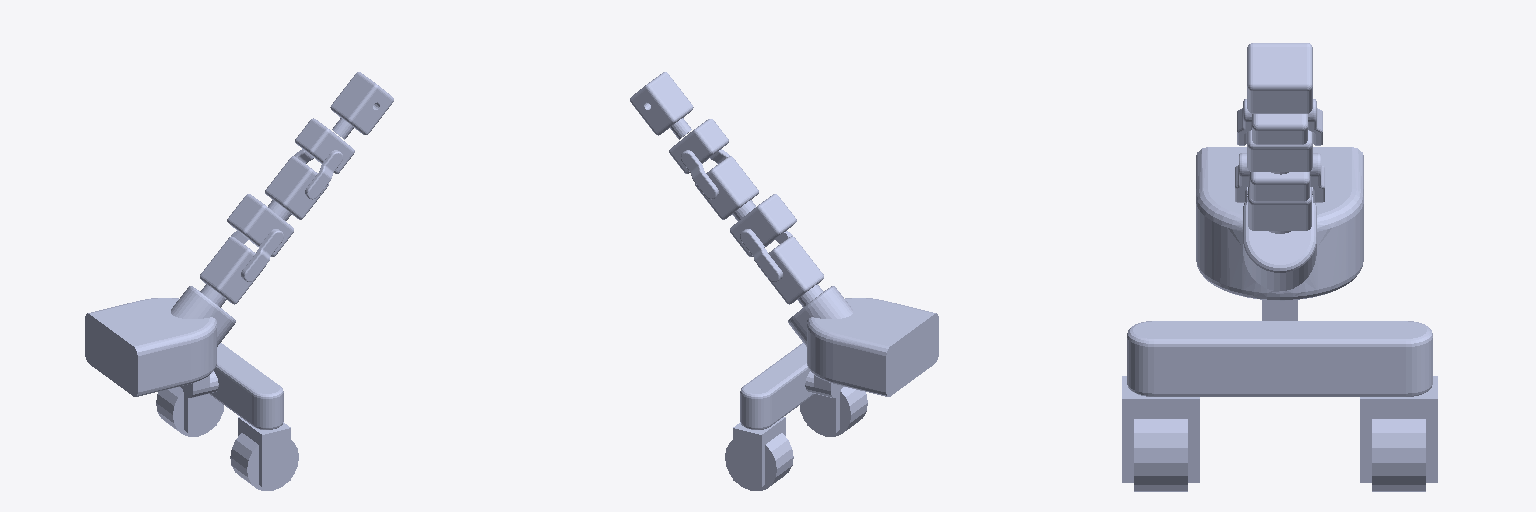
robot.urdf — LRM_ARM_60_0_1:
<?xml version="1.0" encoding="utf-8"?>
<!-- This URDF was automatically created by SolidWorks to URDF Exporter! Originally created by [author] ([email redacted]) 
     Commit Version: 1.6.0-4-g7f85cfe  Build Version: 1.6.7995.38578
     For more information, please see http://wiki.ros.org/sw_urdf_exporter -->
<robot
  name="LRM_ARM_60_0_1">
  <link
    name="base_link">
    <inertial>
      <origin
        xyz="-0.048104206841079 -4.90111673467908E-09 0.143557530418976"
        rpy="0 0 0" />
      <mass
        value="4.97178975391731" />
      <inertia
        ixx="0.0286525742966097"
        ixy="-5.05387354171124E-10"
        ixz="0.00709494743952162"
        iyy="0.0279823571540364"
        iyz="1.30205099336314E-09"
        izz="0.0260130342872084" />
    </inertial>
    <visual>
      <origin
        xyz="0 0 0"
        rpy="0 0 0" />
      <geometry>
        <mesh
          filename="package://meshes/base_link.STL" />
      </geometry>
      <material
        name="">
        <color
          rgba="0.792156862745098 0.819607843137255 0.933333333333333 1" />
      </material>
    </visual>
    <collision>
      <origin
        xyz="0 0 0"
        rpy="0 0 0" />
      <geometry>
        <mesh
          filename="package://meshes/base_link.STL" />
      </geometry>
    </collision>
  </link>
  <link
    name="link1">
    <inertial>
      <origin
        xyz="0 1.1102E-16 0.040987"
        rpy="0 0 0" />
      <mass
        value="0.17564" />
      <inertia
        ixx="0.00015754"
        ixy="-1.1079E-12"
        ixz="3.3034E-19"
        iyy="0.00014648"
        iyz="-6.7145E-20"
        izz="5.8551E-05" />
    </inertial>
    <visual>
      <origin
        xyz="0 0 0"
        rpy="0 0 0" />
      <geometry>
        <mesh
          filename="package://meshes/link1.STL" />
      </geometry>
      <material
        name="">
        <color
          rgba="0.79216 0.81961 0.93333 1" />
      </material>
    </visual>
    <collision>
      <origin
        xyz="0 0 0"
        rpy="0 0 0" />
      <geometry>
        <mesh
          filename="package://meshes/link1.STL" />
      </geometry>
    </collision>
  </link> 
  <joint
    name="joint1"
    type="revolute">
    <origin
      xyz="0 0 0.23432"
      rpy="0 0.7854 0" />
    <!--origin
      xyz="0 0 0.23432"
      rpy="0 1.0472 0" /-->
    <parent
      link="base_link" />
    <child
      link="link1" />
    <axis
      xyz="0 0 -1" />
    <limit
      lower="-1.7453"
      upper="1.7453"
      effort="4"
      velocity="0.12" />
  </joint>
  <link
    name="link2">
    <inertial>
      <origin
        xyz="-0.0088338 0.053407 1.8248E-08"
        rpy="0 0 0" />
      <mass
        value="0.16897" />
      <inertia
        ixx="0.00012053"
        ixy="1.0916E-05"
        ixz="1.3718E-11"
        iyy="0.00011686"
        iyz="4.5225E-11"
        izz="0.00012323" />
    </inertial>
    <visual>
      <origin
        xyz="0 0 0"
        rpy="0 0 0" />
      <geometry>
        <mesh
          filename="package://meshes/link2.STL" />
      </geometry>
      <material
        name="">
        <color
          rgba="0.79216 0.81961 0.93333 1" />
      </material>
    </visual>
    <collision>
      <origin
        xyz="0 0 0"
        rpy="0 0 0" />
      <geometry>
        <mesh
          filename="package://meshes/link2.STL" />
      </geometry>
    </collision>
  </link>
  <joint
    name="joint2"
    type="revolute"> <!-- 0.057205 -->
    <origin
      xyz="0 0 0.057205"
      rpy="1.5708 0 0" />
    <parent
      link="link1" />
    <child
      link="link2" />
    <axis
      xyz="0 0 1" />
    <limit
      lower="-1.7453"
      upper="1.7453"
      effort="4"
      velocity="0.12" />
  </joint>
  <link
    name="link3">
    <inertial> 
      <origin 
        xyz="-1.3878E-17 2.7756E-17 0.039326" 
        rpy="0 0 0" />
      <mass
        value="0.14908" />
      <inertia
        ixx="0.00010055"
        ixy="-1.1452E-12"
        ixz="1.135E-19"
        iyy="8.9207E-05"
        iyz="-3.4301E-20"
        izz="5.2789E-05" />
    </inertial>
    <visual>
      <origin
        xyz="0 0 0"
        rpy="0 0 0" />
      <geometry>
        <mesh
          filename="package://meshes/link3.STL" />
      </geometry>
      <material
        name="">
        <color
          rgba="0.79216 0.81961 0.93333 1" />
      </material>
    </visual>
    <collision>
      <origin
        xyz="0 0 0"
        rpy="0 0 0" />
      <geometry>
        <mesh
          filename="package://meshes/link3.STL" />
      </geometry>
    </collision>
  </link>
  <joint
    name="joint3" 
    type="revolute"> <!-- 0.08 -->
    <origin
      xyz="0 0.084805 0"
      rpy="-1.5708 0 0" />
    <parent
      link="link2" />
    <child
      link="link3" />
    <axis
      xyz="0 0 1" />
    <limit
      lower="-1.7453"
      upper="1.7453"
      effort="4"
      velocity="0.12" />
  </joint>
  <link
    name="link4"> 
    <inertial>
      <origin
        xyz="-0.005085 0.050535 -4.7282E-09"
        rpy="0 0 0" />
      <mass
        value="0.12789" />
      <inertia
        ixx="8.353E-05"
        ixy="4.6009E-06"
        ixz="7.7732E-12"
        iyy="7.3696E-05"
        iyz="-7.8057E-12"
        izz="8.0339E-05" />
    </inertial>
    <visual>
      <origin
        xyz="0 0 0"
        rpy="0 0 0" />
      <geometry>
        <mesh
          filename="package://meshes/link4.STL" />
      </geometry>
      <material
        name="">
        <color
          rgba="0.79216 0.81961 0.93333 1" />
      </material>
    </visual>
    <collision>
      <origin
        xyz="0 0 0"
        rpy="0 0 0" />
      <geometry>
        <mesh
          filename="package://meshes/link4.STL" />
      </geometry>
    </collision>
  </link>
  <joint
    name="joint4"
    type="revolute"> 
    <origin
      xyz="0 0 0.05207"
      rpy="1.5708 0 0" />
    <parent
      link="link3" />
    <child
      link="link4" />
    <axis
      xyz="0 0 -1" />
    <limit
      lower="-1.7453"
      upper="1.7453"
      effort="4"
      velocity="0.12" />
  </joint>
  <link
    name="link5">
    <inertial>
      <origin
        xyz="0 -2.7756E-17 0.041131"
        rpy="0 0 0" />
      <mass
        value="0.14106" />
      <inertia
        ixx="8.804E-05"
        ixy="-5.4409E-21"
        ixz="-1.6941E-20"
        iyy="7.669E-05"
        iyz="7.3341E-21"
        izz="5.1307E-05" />
    </inertial>
    <visual>
      <origin
        xyz="0 0 0"
        rpy="0 0 0" />
      <geometry>
        <mesh
          filename="package://meshes/link5.STL" />
      </geometry>
      <material
        name="">
        <color
          rgba="0.79216 0.81961 0.93333 1" />
      </material>
    </visual>
    <collision>
      <origin
        xyz="0 0 0"
        rpy="0 0 0" />
      <geometry>
        <mesh
          filename="package://meshes/link5.STL" />
      </geometry>
    </collision>
  </link>
  <joint
    name="joint5"
    type="revolute"> <!-- 0.07 -->
    <origin
      xyz="0 0.08822 0"
      rpy="-1.5708 0 0" />
    <parent
      link="link4" />
    <child
      link="link5" />
    <axis
      xyz="0 0 1" />
    <limit
      lower="-1.7453"
      upper="1.7453"
      effort="4"
      velocity="0.12" />
  </joint>
  <link
    name="link6">
    <inertial>
      <origin
        xyz="-0.0020164 0.062208 -2.7756E-17"
        rpy="0 0 0" />
      <mass
        value="0.10776" />
      <inertia
        ixx="0.00013214"
        ixy="-1.3313E-06"
        ixz="-1.4382E-20"
        iyy="6.5688E-05"
        iyz="1.8781E-20"
        izz="8.1577E-05" />
    </inertial>
    <visual>
      <origin
        xyz="0 0 0"
        rpy="0 0 0" />
      <geometry>
        <mesh
          filename="package://link6.STL" />
      </geometry>
      <material
        name="">
        <color
          rgba="0.79216 0.81961 0.93333 1" />
      </material>
    </visual>
    <collision>
      <origin
        xyz="0 0 0"
        rpy="0 0 0" />
      <geometry>
        <mesh
          filename="package://link6.STL" />
      </geometry>
    </collision>
  </link>
  <joint
    name="joint6"
    type="revolute">
    <origin
      xyz="0 0 0.05178"
      rpy="1.5708 0 0" />
    <parent
      link="link5" />
    <child
      link="link6" />
    <axis
      xyz="0 0 -1" />
    <limit
      lower="-1.7453"
      upper="1.7453"
      effort="4"
      velocity="0.12" />
  </joint>
  <link name="end_effector">
    <inertial>
        <origin xyz="0 0 0" rpy="0 0 0"/>
        <mass value="0.0"/>
        <inertia ixx="0.0" ixy="0.0" ixz="0.0" iyy="0.0" iyz="0.0" izz="0.0"/>
    </inertial>
    <visual>
        <origin xyz="0 0 0" rpy="0 0 0"/>
        <geometry>
            <sphere radius="0.0001"/>
        </geometry>
        <material name="blue">
            <color rgba="0 0 1 1"/>
        </material>
    </visual>
</link>
<joint name="dummy_joint" type="fixed">
    <origin xyz="0 0.13 0" rpy="-1.5708 0 0"/>
    <parent link="link6"/> <!-- Connect to the last link -->
    <child link="end_effector"/>
</joint>
</robot>

--- What the picture shows (computed from the rendered views, not written in the file) ---
3 views of the same robot in one strip: view 1: azimuth 30°, elevation 25°; view 2: azimuth 150°, elevation 25°; view 3: azimuth 270°, elevation 25° (orthographic).
Robot: LRM_ARM_60_0_1 — 8 links, 7 joints (6 revolute, 1 fixed); root link base_link; default pose: every joint at zero.
Visible links, largest first — view 1: base_link, link2, link5, link4, link1, link3; view 2: base_link, link2, link5, link4, link1, link3; view 3: base_link, link5, link2, link4, link1, link3.
Link boxes in pixels (x1=…): base_link: x1=85, y1=286, x2=298, y2=490; link2: x1=227, y1=194, x2=293, y2=281; link5: x1=330, y1=72, x2=393, y2=139; link4: x1=294, y1=118, x2=354, y2=199; link1: x1=200, y1=236, x2=265, y2=307; link3: x1=265, y1=156, x2=328, y2=220; base_link: x1=725, y1=286, x2=938, y2=490; link2: x1=730, y1=194, x2=796, y2=281; link5: x1=630, y1=72, x2=693, y2=139; link4: x1=669, y1=119, x2=729, y2=199; link1: x1=758, y1=236, x2=823, y2=307; link3: x1=695, y1=156, x2=758, y2=220; base_link: x1=1122, y1=147, x2=1437, y2=491; link5: x1=1247, y1=43, x2=1312, y2=113; link2: x1=1235, y1=153, x2=1324, y2=202; link4: x1=1237, y1=99, x2=1322, y2=145; link1: x1=1248, y1=187, x2=1311, y2=233; link3: x1=1247, y1=130, x2=1312, y2=174.
Size in the robot's own frame: 0.4781 by 0.259 by 0.5626 metres.
6 mesh visuals loaded from 6 distinct referenced files (6 binary STL); not drawn: 1 (reference in a form the renderer does not follow; not among the files counted above).